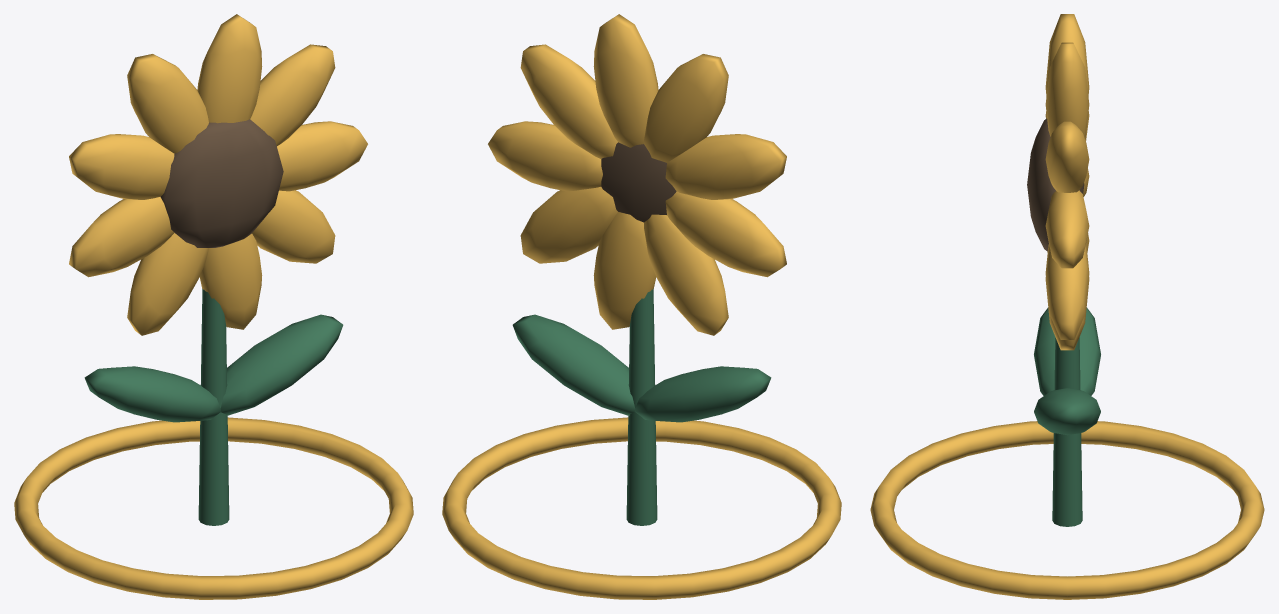
The model's file is sunflower.glb.
3 views of the same model, side by side, from view 1: azimuth 30°, elevation 25°; view 2: azimuth 150°, elevation 25°; view 3: azimuth 270°, elevation 25° (orthographic).
Parts seen in each view (by area): view 1: _MeshInstance3D_92, _MeshInstance3D_89, _MeshInstance3D_91, _MeshInstance3D_79, _MeshInstance3D_84, _MeshInstance3D_83, _MeshInstance3D_85, _MeshInstance3D_82, _MeshInstance3D_90, _MeshInstance3D_81, _MeshInstance3D_86, _MeshInstance3D_80 (+2 smaller); view 2: _MeshInstance3D_92, _MeshInstance3D_91, _MeshInstance3D_82, _MeshInstance3D_85, _MeshInstance3D_83, _MeshInstance3D_84, _MeshInstance3D_81, _MeshInstance3D_86, _MeshInstance3D_79, _MeshInstance3D_80, _MeshInstance3D_90, _MeshInstance3D_88 (+2 smaller); view 3: _MeshInstance3D_92, _MeshInstance3D_79, _MeshInstance3D_82, _MeshInstance3D_88, _MeshInstance3D_90, _MeshInstance3D_80, _MeshInstance3D_81, _MeshInstance3D_91, _MeshInstance3D_89, _MeshInstance3D_83.
Boxes of the visible parts, x1,y1,x2,y2 form: _MeshInstance3D_92: [14, 417, 413, 599]; _MeshInstance3D_89: [160, 119, 283, 247]; _MeshInstance3D_91: [220, 314, 343, 415]; _MeshInstance3D_79: [198, 288, 229, 525]; _MeshInstance3D_84: [69, 134, 174, 199]; _MeshInstance3D_83: [127, 54, 208, 153]; _MeshInstance3D_85: [69, 197, 174, 277]; _MeshInstance3D_82: [197, 14, 262, 123]; _MeshInstance3D_90: [84, 366, 221, 422]; _MeshInstance3D_81: [250, 44, 335, 146]; _MeshInstance3D_86: [127, 233, 208, 335]; _MeshInstance3D_80: [277, 121, 367, 191]; _MeshInstance3D_92: [442, 417, 841, 599]; _MeshInstance3D_91: [512, 314, 635, 415]; _MeshInstance3D_82: [593, 14, 658, 147]; _MeshInstance3D_85: [665, 191, 786, 277]; _MeshInstance3D_83: [644, 54, 728, 162]; _MeshInstance3D_84: [665, 134, 786, 199]; _MeshInstance3D_81: [520, 44, 617, 158]; _MeshInstance3D_86: [644, 214, 728, 335]; _MeshInstance3D_79: [626, 288, 657, 525]; _MeshInstance3D_80: [488, 121, 602, 191]; _MeshInstance3D_90: [634, 366, 771, 422]; _MeshInstance3D_88: [520, 187, 617, 263]; _MeshInstance3D_92: [870, 421, 1264, 599]; _MeshInstance3D_79: [1052, 337, 1082, 526]; _MeshInstance3D_82: [1045, 42, 1089, 139]; _MeshInstance3D_88: [1045, 243, 1089, 339]; _MeshInstance3D_90: [1034, 307, 1100, 395]; _MeshInstance3D_80: [1045, 190, 1089, 268]; _MeshInstance3D_81: [1045, 121, 1089, 192]; _MeshInstance3D_91: [1034, 388, 1100, 435]; _MeshInstance3D_89: [1027, 118, 1084, 251]; _MeshInstance3D_83: [1045, 14, 1089, 96].
Bounding box in the file's own units: 1.17 × 1.6 × 1.17.
